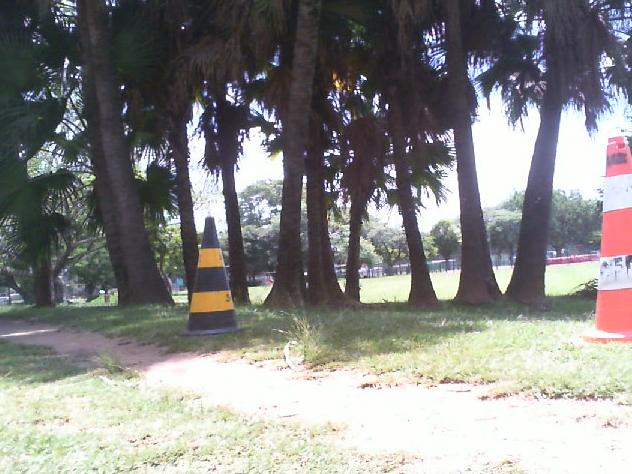0 cone: (563, 136, 632, 344), (179, 217, 247, 336)
